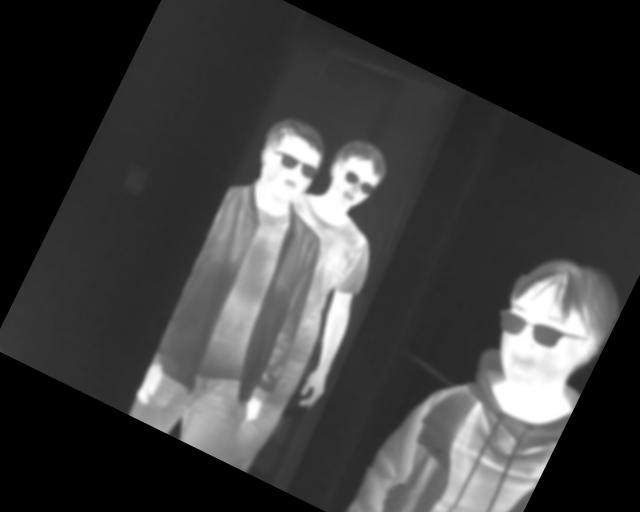face: (477, 239, 633, 411), (243, 109, 335, 210), (316, 130, 395, 218)
